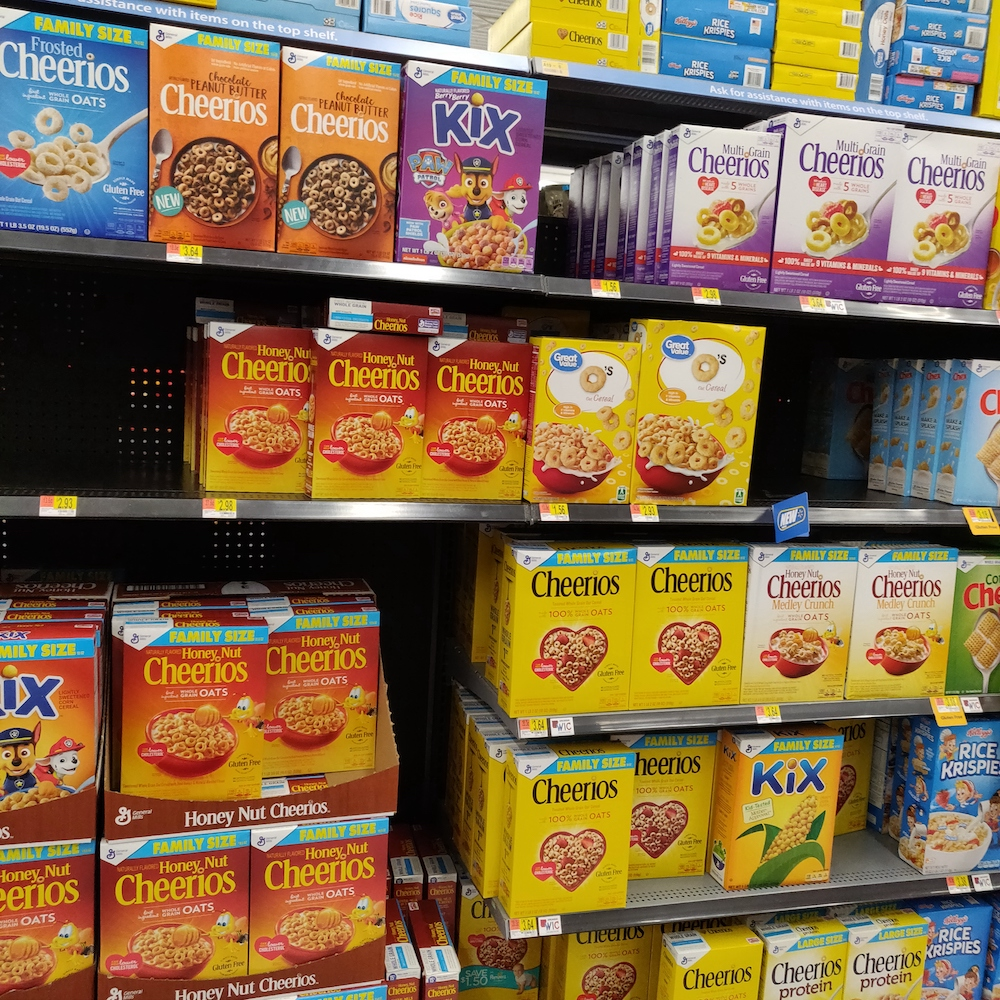Kix Berry -568919964: (402, 75, 538, 273)
Kix Crispy Corn-550051312: (733, 727, 838, 885)
